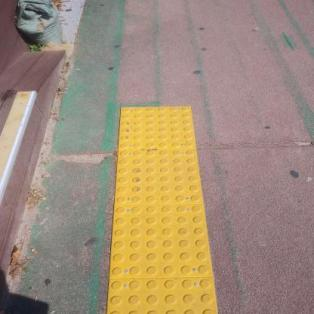Podoctatil: (100, 100, 225, 313)
